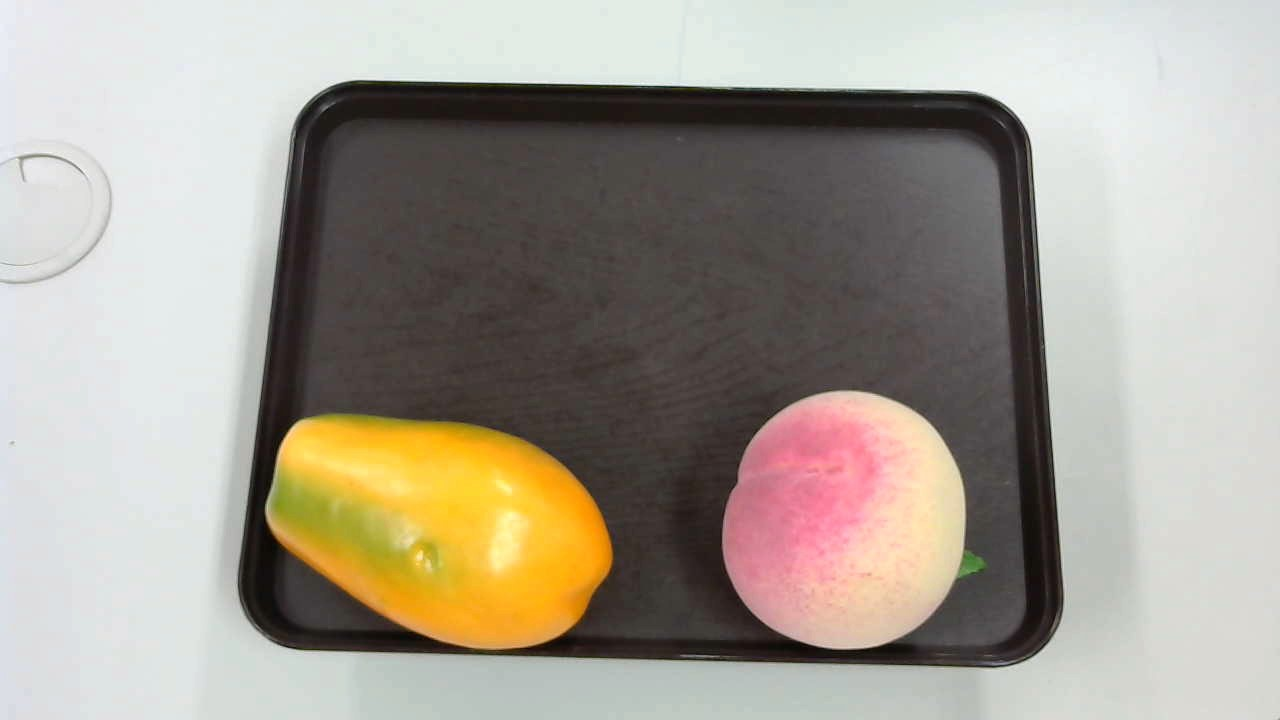papya: (259, 405, 621, 663)
peach: (717, 393, 987, 649)
